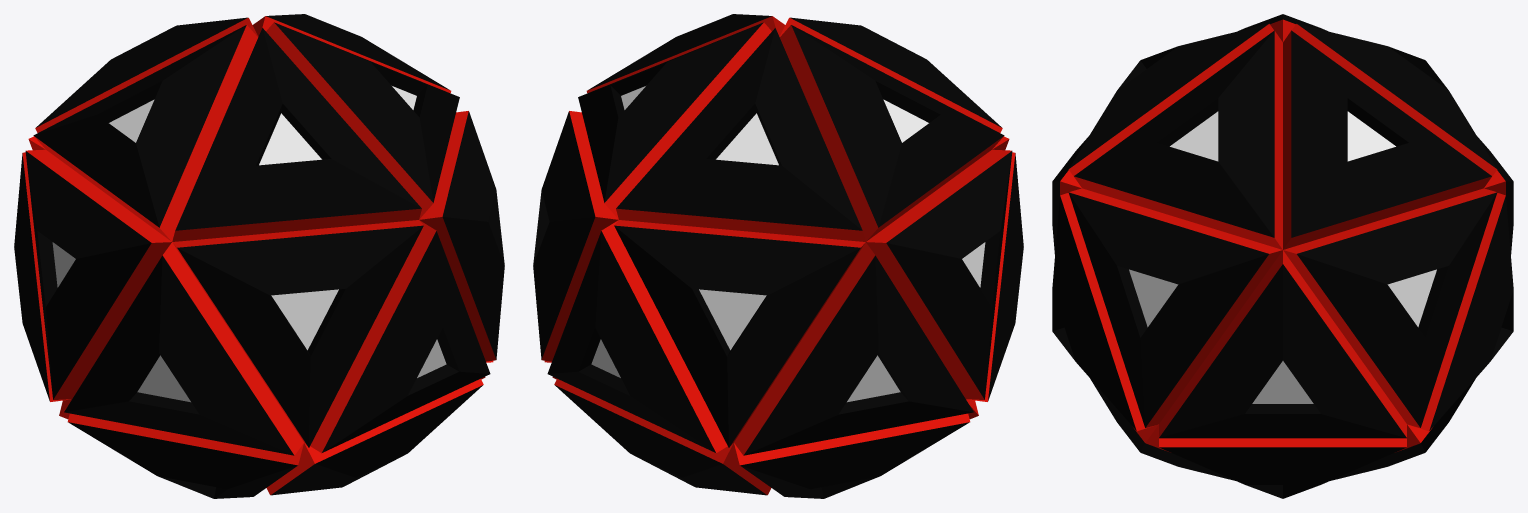
File: ball2.fbx
3 views of the same model, side by side, from view 1: azimuth 30°, elevation 25°; view 2: azimuth 150°, elevation 25°; view 3: azimuth 270°, elevation 25° (orthographic).
Visible parts, largest first — view 1: Icosphere; view 2: Icosphere; view 3: Icosphere.
Boxes of the visible parts, <box> form: Icosphere: <box>14,14,504,498</box>; Icosphere: <box>533,14,1023,498</box>; Icosphere: <box>1052,14,1513,498</box>.
Size of the model in its own units: 206 by 216 by 195.
